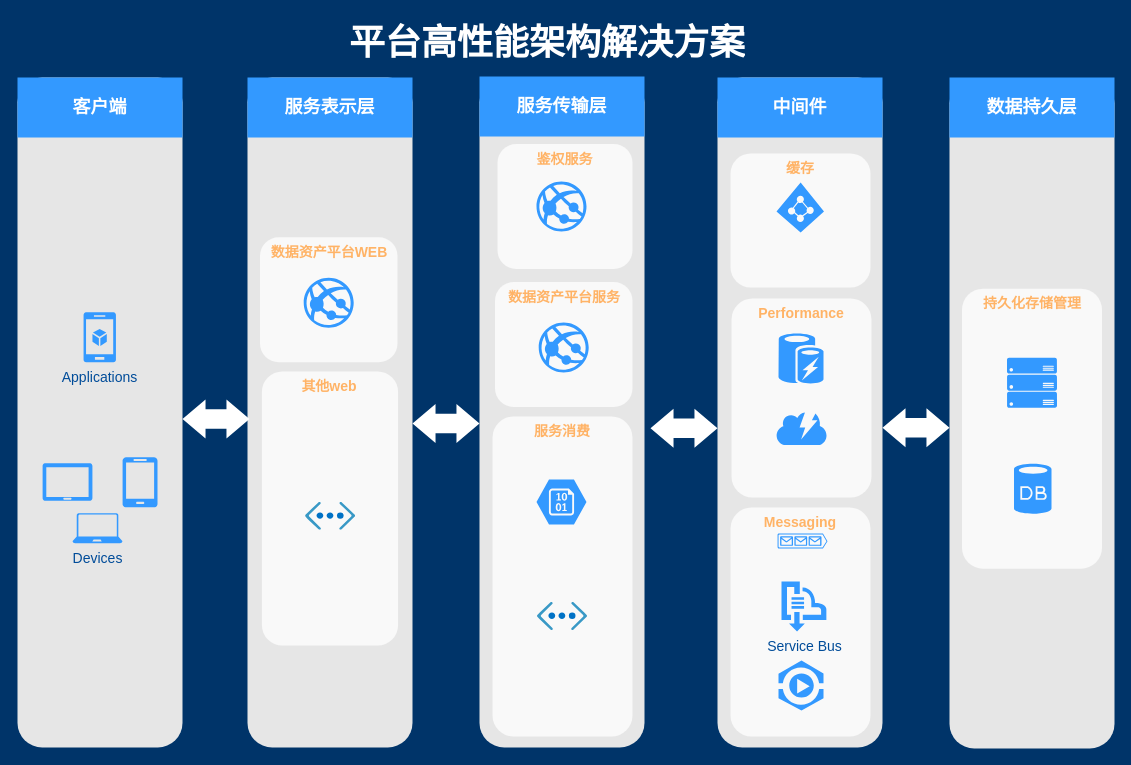
The diagram is 1131 pixels wide and 765 high, and some of its shapes have lost their labels. Here are the shapes that lost their labels. From the top down, the centre of each, then its label:
point (800, 207): Windows Azure Active Directorry
point (800, 358): Caching
point (1031, 382): 分布式云存储
point (801, 428): Content Delivery Network
point (561, 501): 工作节点
point (1032, 488): 数据库
point (802, 540): Queues
point (800, 685): Media Services
